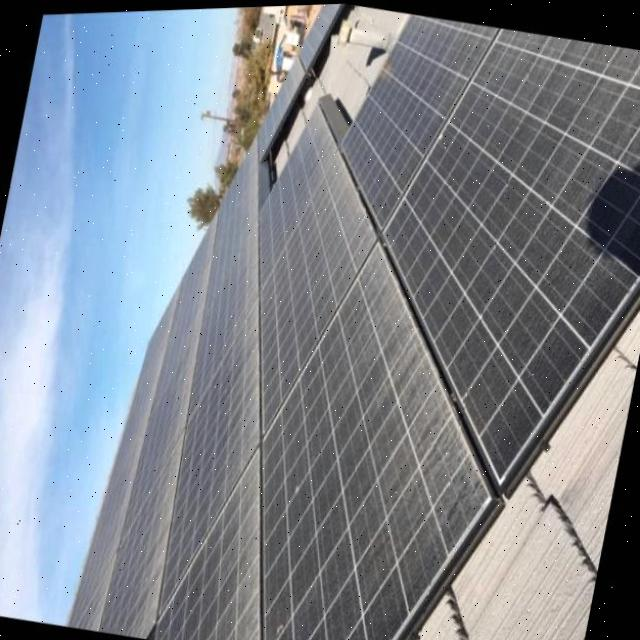Anomaly Solar Panel: (381, 26, 640, 485), (260, 238, 490, 640), (339, 11, 500, 229), (259, 145, 377, 431), (158, 291, 260, 611), (154, 443, 262, 640), (118, 310, 204, 543), (99, 423, 186, 634), (187, 212, 259, 418), (259, 98, 338, 284)
Surface Contaminant: (352, 235, 486, 553), (473, 26, 640, 164), (132, 427, 183, 633), (315, 146, 377, 286), (225, 294, 260, 494), (388, 11, 500, 72), (162, 297, 205, 452), (232, 443, 263, 640), (236, 213, 258, 324)
